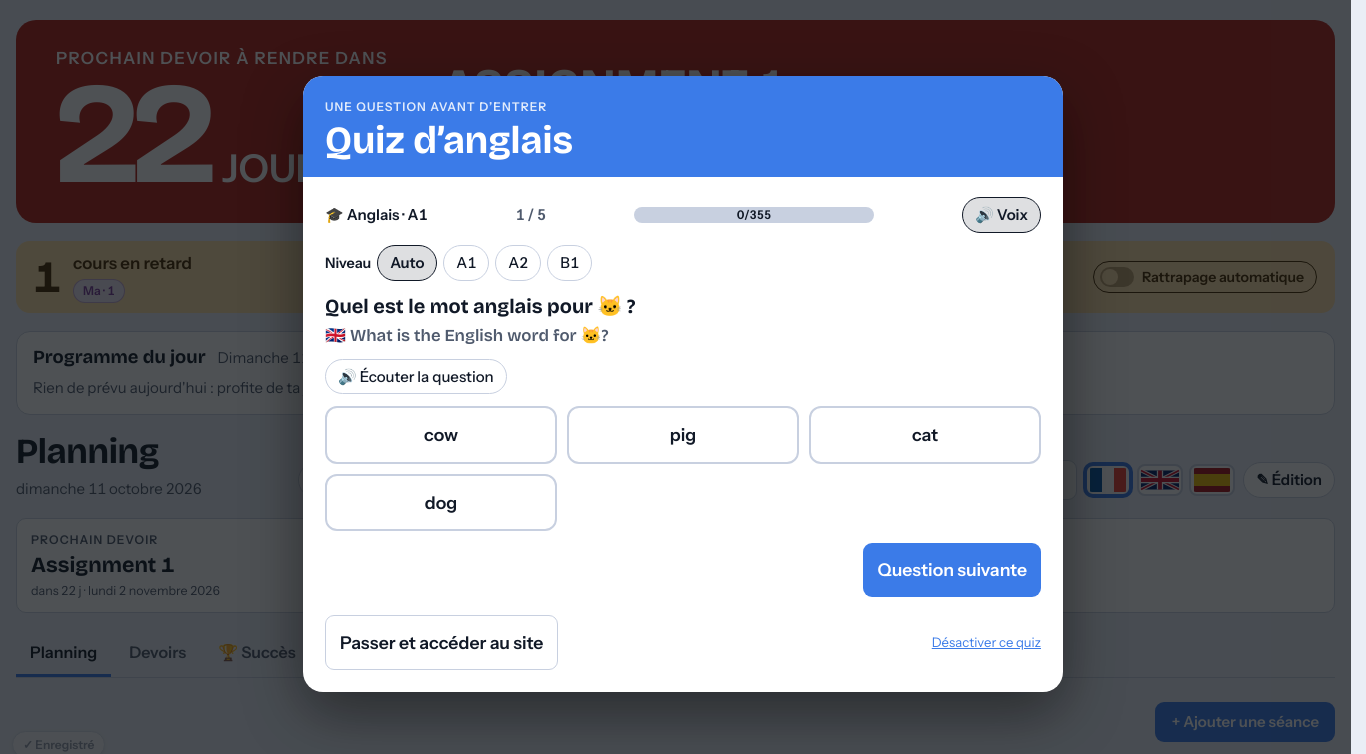
English quiz at the door › each question is read as soon as it appears, with no click on "Écouter" (the voice is on by default)
Click the button "cat" at (925, 435), box [809, 406, 1041, 464]
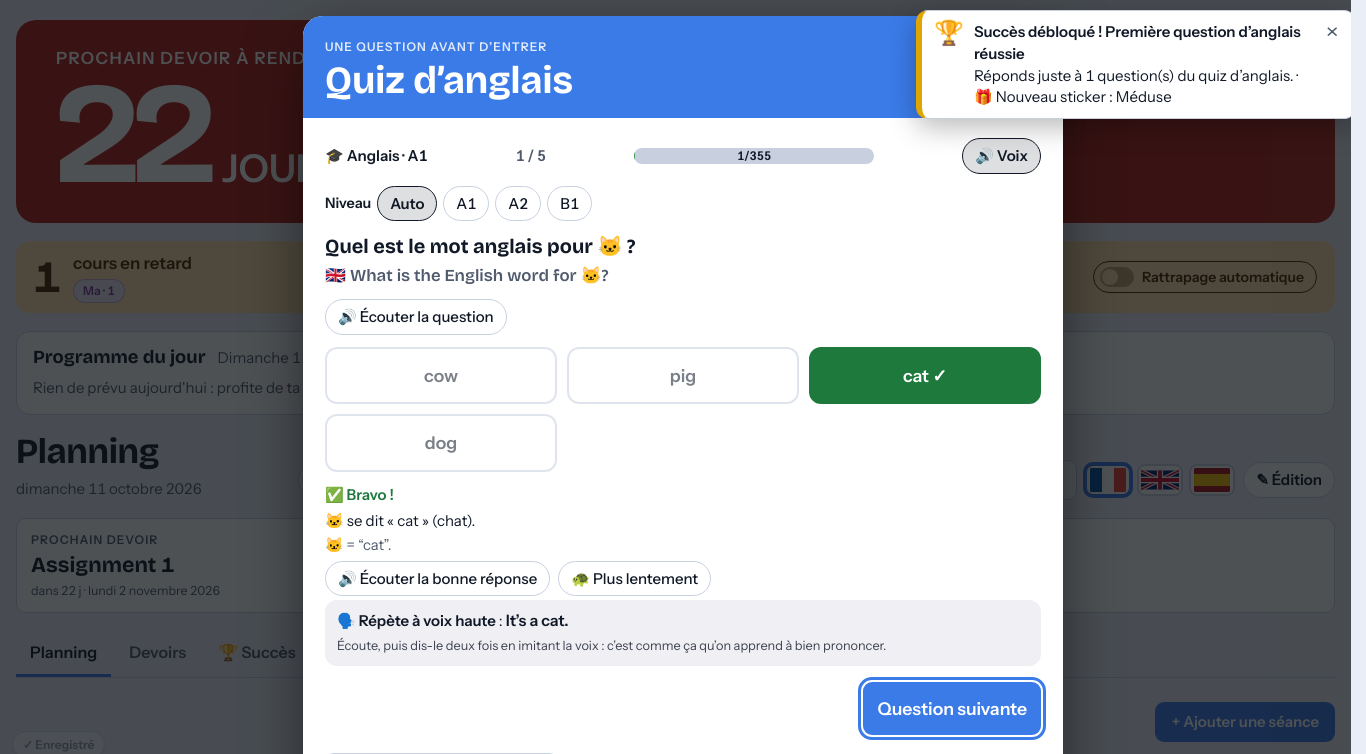
Click the button "Question suivante" at (952, 709), box [864, 682, 1041, 735]
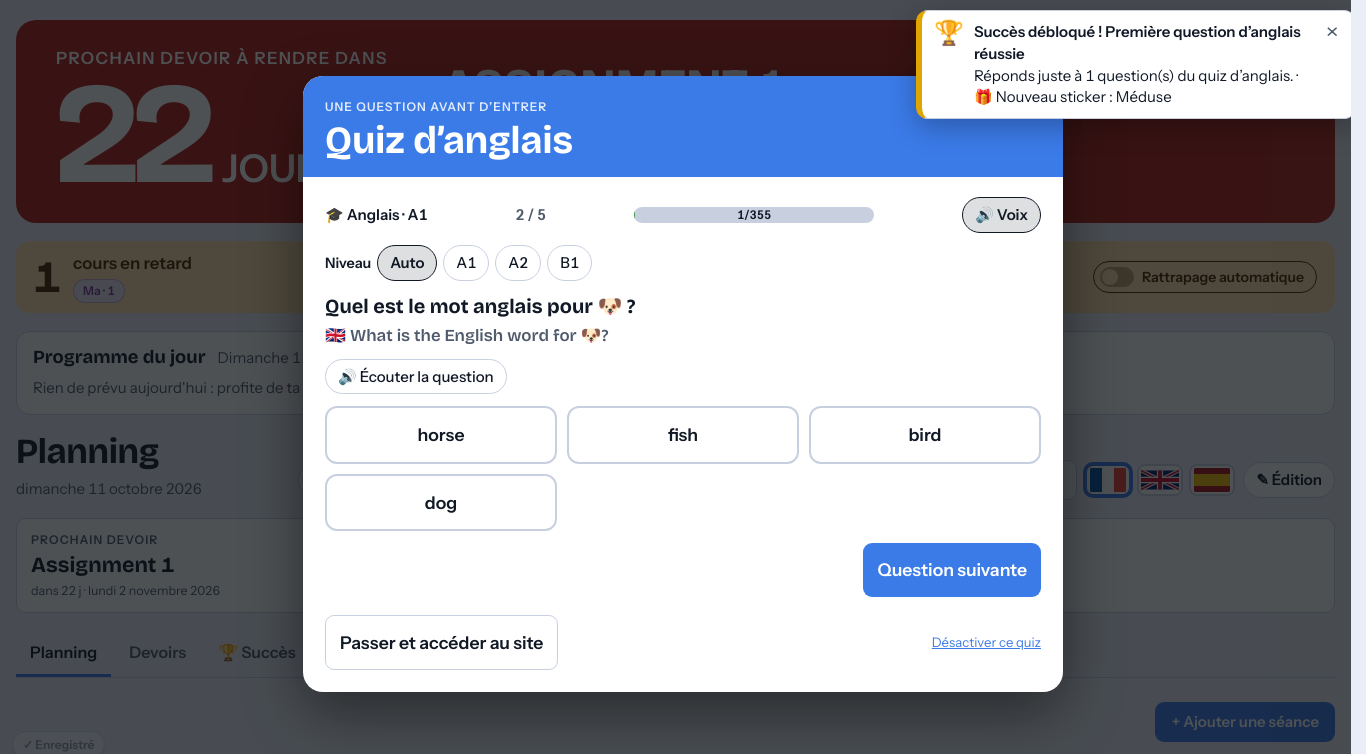
Result: the text "2 / 5" is shown at [516, 204, 546, 226]
